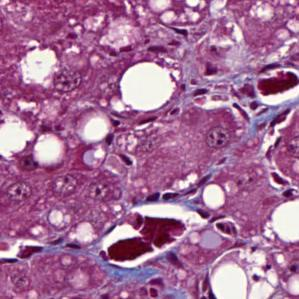ballooning: (204, 243, 280, 297), (18, 42, 63, 92)
